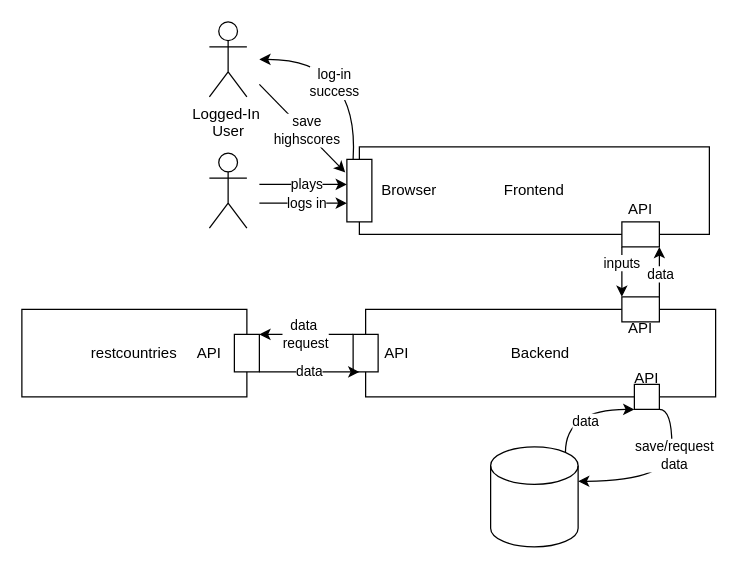
The diagram is 738 pixels wide and 569 high, and some of its shapes have lost their labels. The shapes that lost their labels are listed below. From the top down, each one's centre as x and y in pixels, then its label:
pixel 227 190: User
pixel 533 496: Persistence
